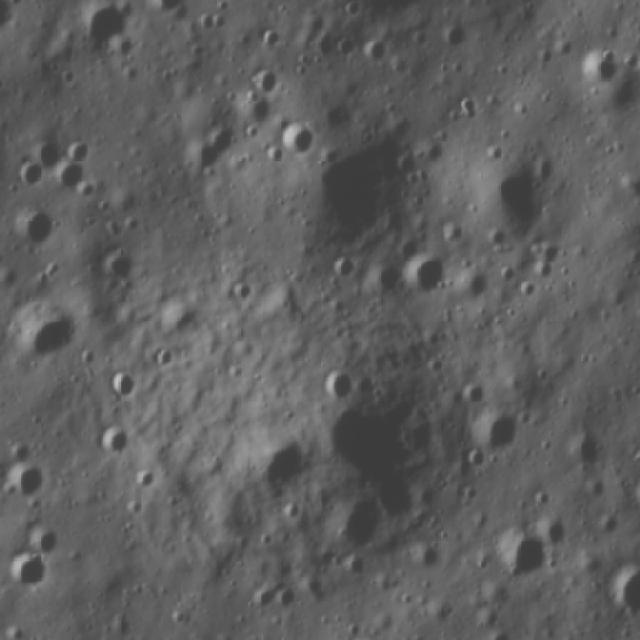crater: (300, 120, 428, 252), (315, 404, 423, 490), (480, 162, 548, 238), (249, 434, 309, 506), (20, 303, 85, 363), (189, 114, 242, 184), (494, 520, 548, 586), (335, 498, 388, 560), (74, 0, 134, 52), (470, 408, 524, 454), (408, 252, 452, 303), (364, 259, 411, 306), (575, 47, 620, 95), (3, 550, 51, 593), (12, 206, 52, 254), (278, 116, 318, 164), (611, 563, 640, 628), (319, 366, 361, 406), (562, 433, 603, 473), (29, 522, 71, 560), (0, 466, 45, 500), (96, 425, 135, 463), (458, 265, 494, 306), (54, 158, 89, 200), (102, 370, 140, 401), (250, 63, 284, 95), (16, 160, 46, 195), (593, 510, 625, 541), (441, 20, 470, 52), (254, 24, 284, 53), (364, 34, 391, 66), (545, 515, 569, 550), (460, 380, 492, 406), (0, 0, 15, 43), (632, 478, 640, 520)
